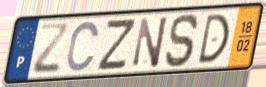C: (65, 20, 101, 74)
D: (196, 12, 231, 66)
N: (131, 14, 170, 70)
S: (163, 12, 201, 69)
Z: (94, 17, 139, 73), (30, 22, 71, 76)
